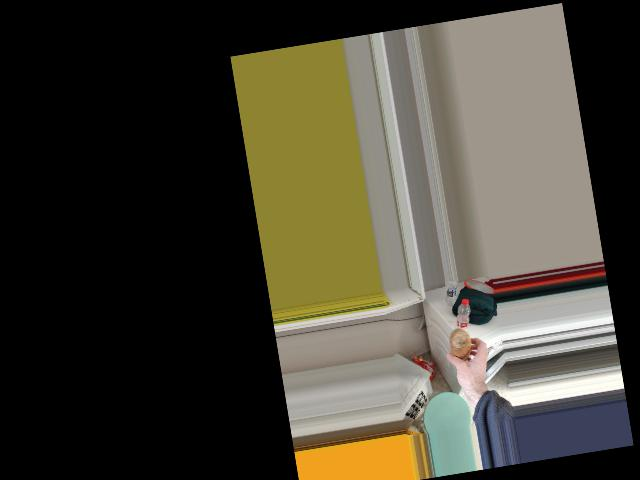sweet_potato: (444, 326, 479, 367)
